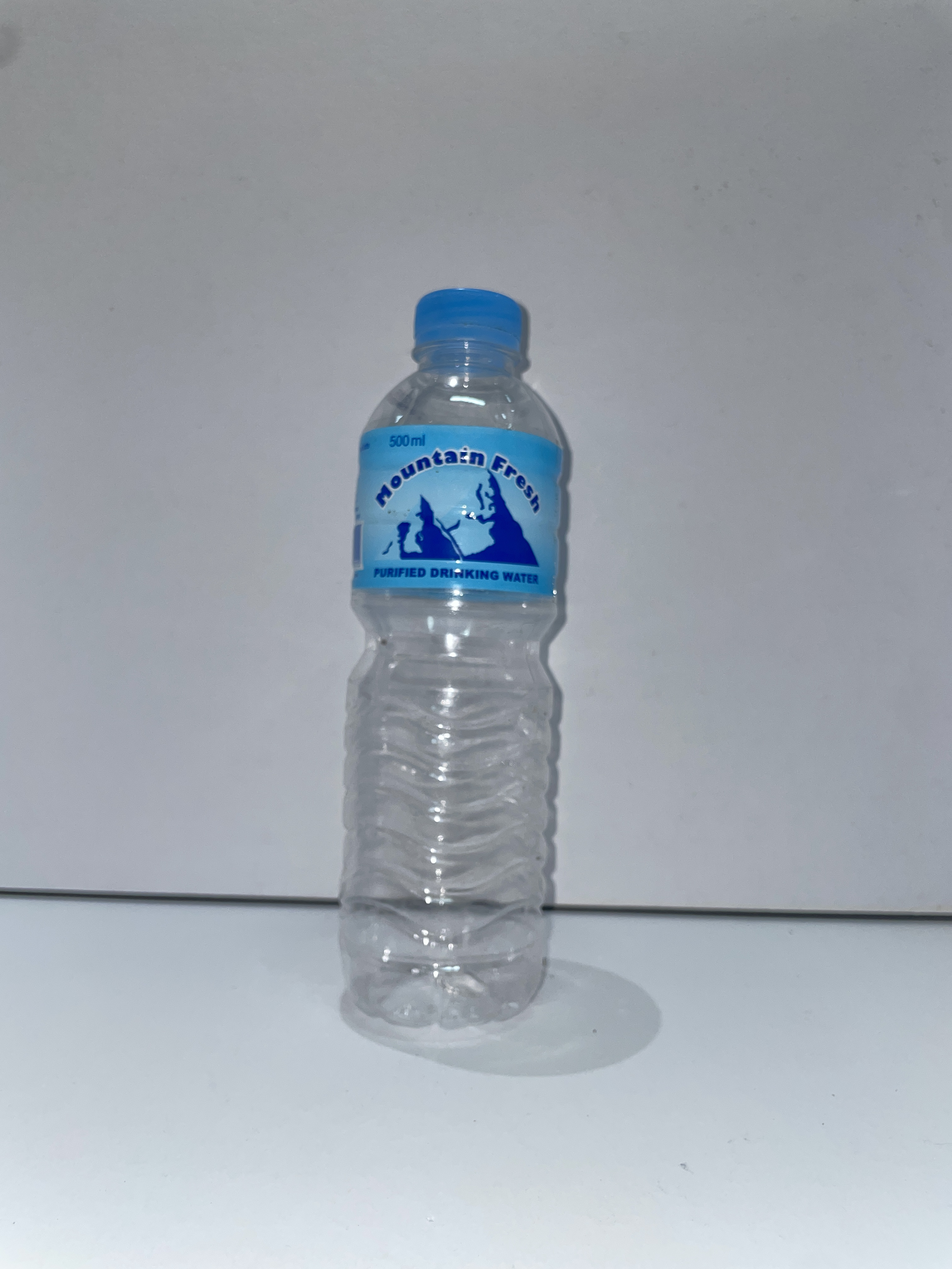Mountain Fresh 500ml: (341, 288, 563, 1027)
